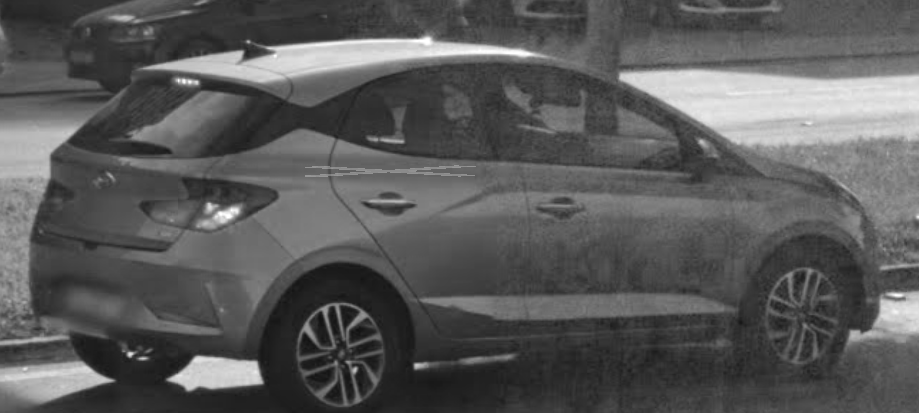car: (31, 37, 884, 411)
